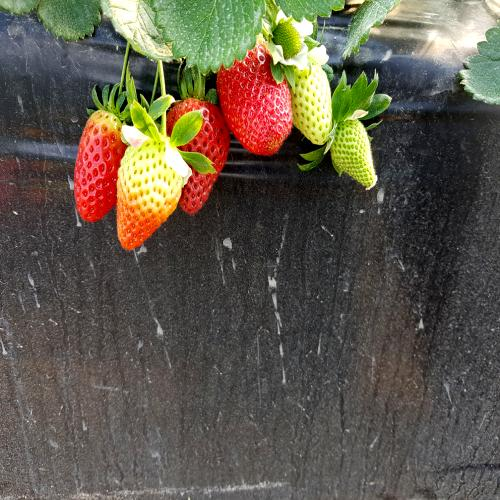ripe: (214, 21, 294, 172), (166, 78, 232, 226), (66, 95, 124, 231)
